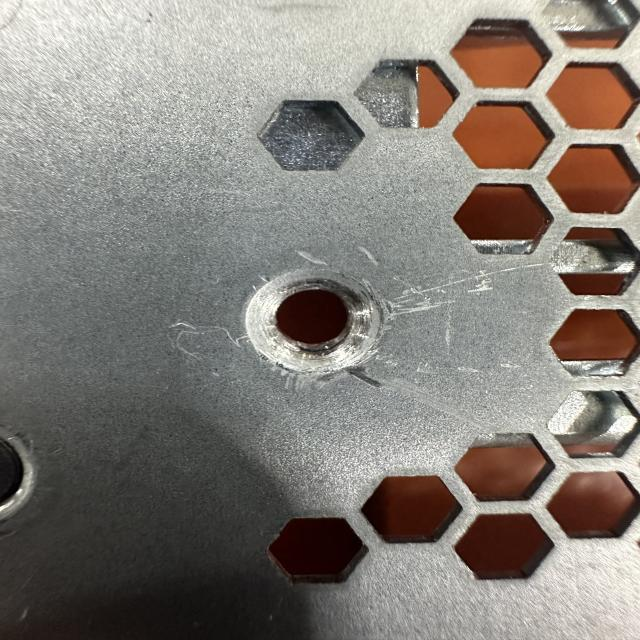Missing screw: (218, 255, 404, 382)
